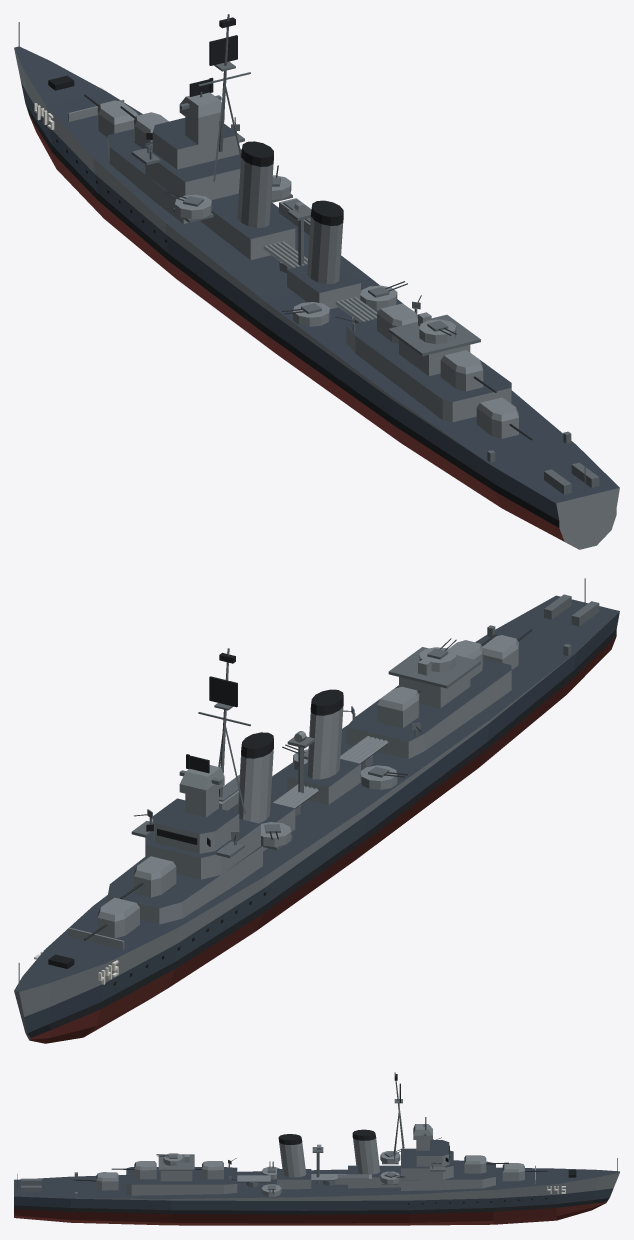
The model's file is fletcher.glb.
3 renders of one model, top to bottom at view 1: azimuth 30°, elevation 25°; view 2: azimuth 150°, elevation 25°; view 3: azimuth 270°, elevation 25°, orthographic. The views are drawn at different scales.
Visible parts, largest first — view 1: Hull, Aft deckhouse, Bridge 1, Funnel 1 house, Pilothouse, Fwd deckhouse, Fwd funnel, Aft funnel, Funnel 2 house, 40mm deck, Mount 4 house, Mount 5 house (+4 smaller); view 2: Hull, Aft deckhouse, Fwd deckhouse, Pilothouse, Bridge 1, Fwd funnel, Aft funnel, Funnel 2 house, 40mm deck, Mount 3 house, Mount 2 house, Mount 1 house (+9 smaller); view 3: Hull, Aft deckhouse, Fwd deckhouse, Bridge 1, Fwd funnel, Aft funnel, Pilothouse, Funnel 1 house, Funnel 2 house, Mount 4 house, Mount 5 house, Mount 2 house (+8 smaller).
Boxes of the visible parts, bbox=[...] form: Hull: bbox=[14, 46, 619, 549]; Aft deckhouse: bbox=[346, 315, 511, 422]; Bridge 1: bbox=[145, 141, 241, 197]; Funnel 1 house: bbox=[200, 193, 295, 260]; Pilothouse: bbox=[152, 118, 239, 169]; Fwd deckhouse: bbox=[107, 129, 238, 223]; Fwd funnel: bbox=[237, 157, 273, 227]; Aft funnel: bbox=[307, 217, 343, 284]; Funnel 2 house: bbox=[287, 264, 360, 309]; 40mm deck: bbox=[388, 314, 480, 356]; Mount 4 house: bbox=[440, 350, 483, 391]; Mount 5 house: bbox=[476, 397, 518, 438]; Hull: bbox=[14, 595, 619, 1043]; Aft deckhouse: bbox=[346, 658, 511, 758]; Fwd deckhouse: bbox=[107, 846, 262, 924]; Pilothouse: bbox=[152, 798, 239, 853]; Bridge 1: bbox=[145, 819, 260, 879]; Fwd funnel: bbox=[237, 749, 273, 823]; Aft funnel: bbox=[307, 706, 343, 779]; Funnel 2 house: bbox=[287, 759, 360, 804]; 40mm deck: bbox=[388, 647, 480, 688]; Mount 3 house: bbox=[377, 686, 419, 728]; Mount 2 house: bbox=[134, 856, 176, 897]; Mount 1 house: bbox=[97, 897, 139, 938]; Hull: bbox=[14, 1167, 619, 1225]; Aft deckhouse: bbox=[126, 1167, 237, 1195]; Fwd deckhouse: bbox=[401, 1160, 495, 1190]; Bridge 1: bbox=[401, 1148, 453, 1179]; Fwd funnel: bbox=[353, 1138, 380, 1174]; Aft funnel: bbox=[279, 1142, 306, 1177]; Pilothouse: bbox=[416, 1140, 449, 1166]; Funnel 1 house: bbox=[348, 1165, 400, 1188]; Funnel 2 house: bbox=[277, 1169, 311, 1189]; Mount 4 house: bbox=[134, 1161, 156, 1179]; Mount 5 house: bbox=[96, 1172, 118, 1190]; Mount 2 house: bbox=[464, 1155, 486, 1173].
Bounding box in the file's own units: 14.22 × 31.21 × 115.
